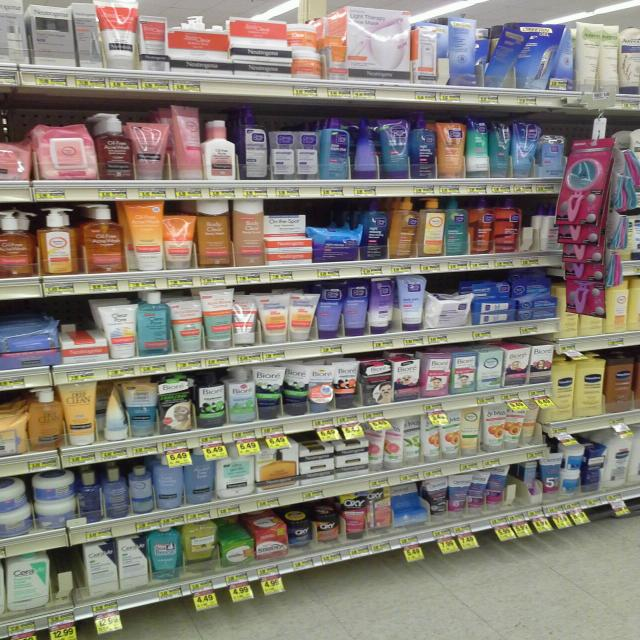empty: (51, 548, 94, 606)
